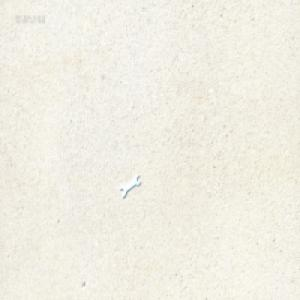Wrench: (120, 174, 141, 200)
